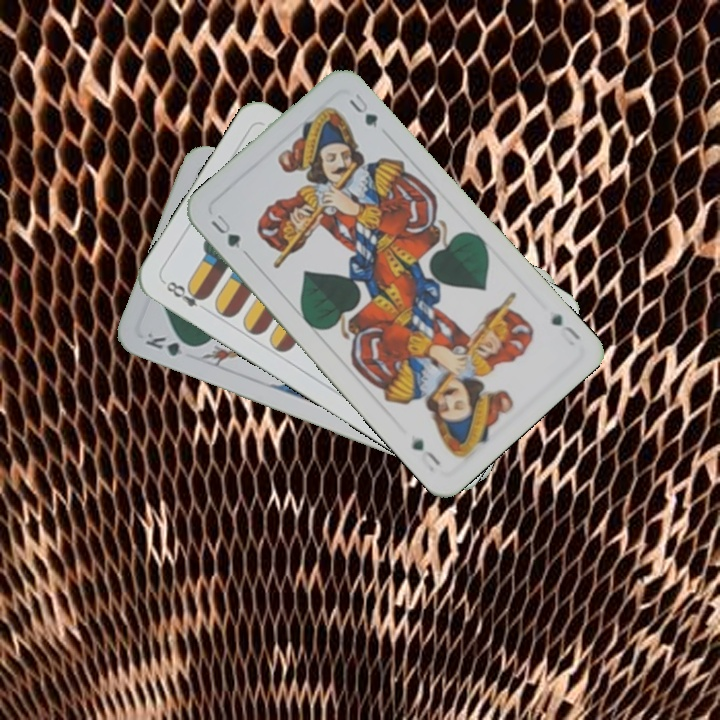E8: (159, 277, 211, 315)
GK: (142, 328, 199, 359)
GU: (206, 210, 243, 252), (547, 308, 584, 349)
